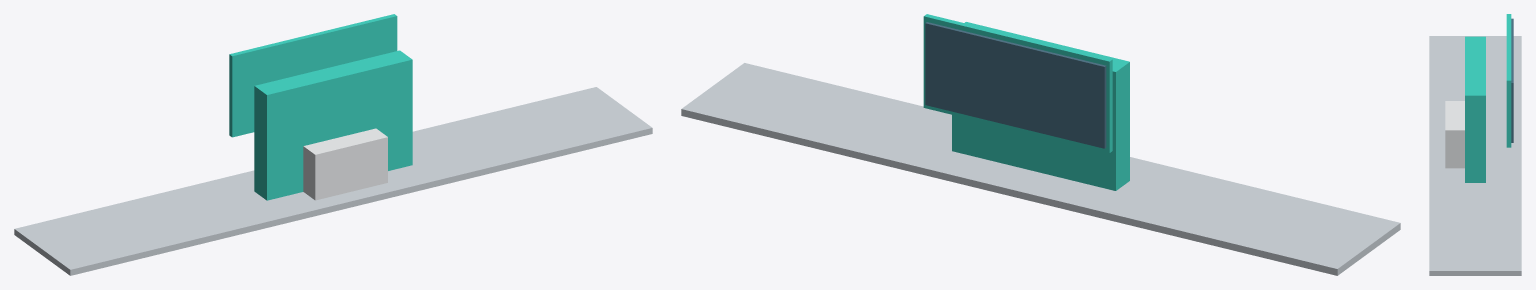
3 views of the same model, side by side, from view 1: azimuth 30°, elevation 25°; view 2: azimuth 150°, elevation 25°; view 3: azimuth 270°, elevation 25° (orthographic). The views are drawn at different scales.
Visible parts, largest first — view 1: Exhibition Booth Concept; view 2: Exhibition Booth Concept; view 3: Exhibition Booth Concept.
Boxes of the visible parts, bbox=[...] form: Exhibition Booth Concept: bbox=[14, 14, 652, 275]; Exhibition Booth Concept: bbox=[681, 14, 1400, 275]; Exhibition Booth Concept: bbox=[1429, 14, 1521, 275].
Size of the model in its own units: 12 by 2.65 by 2.
